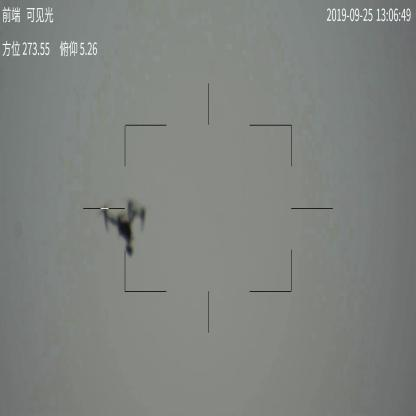uav: (96, 199, 148, 257)
